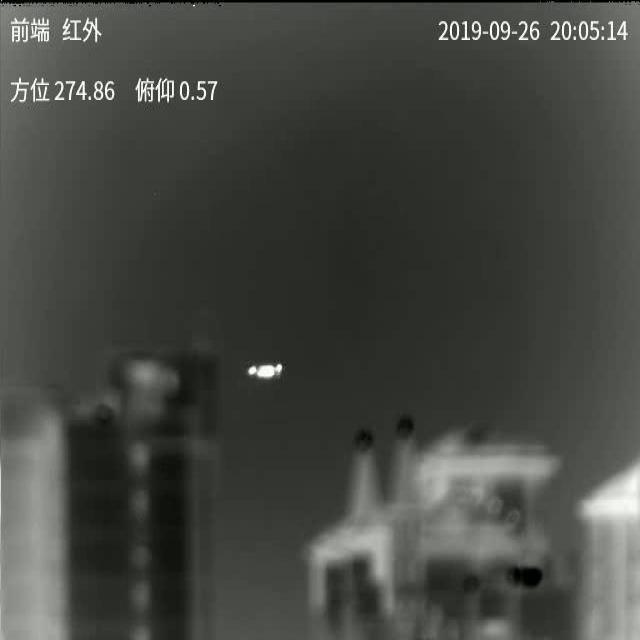drone: (247, 362, 283, 380)
